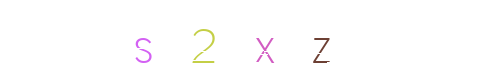2: (173, 0, 253, 80)
S: (167, 0, 247, 80)
X: (210, 0, 290, 80)
Z: (281, 0, 361, 80)
